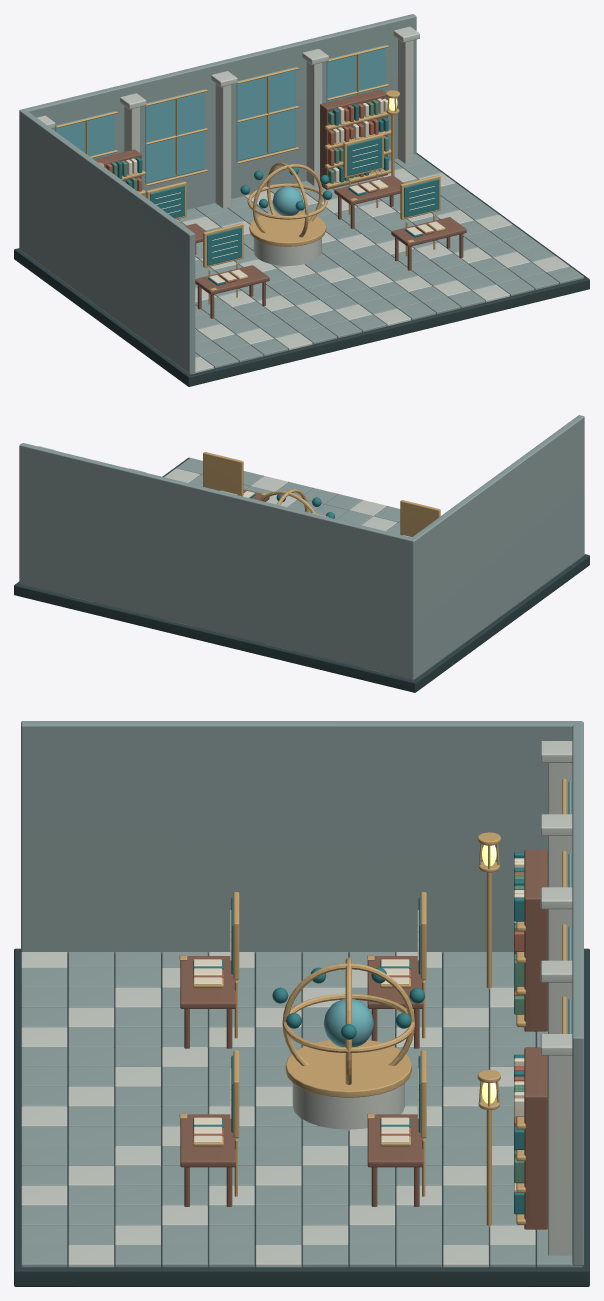
3 views of the same model, one above another, from view 1: azimuth 30°, elevation 25°; view 2: azimuth 150°, elevation 25°; view 3: azimuth 270°, elevation 25° (orthographic). The views are drawn at different scales.
Parts seen in each view (by area): view 1: Static_2_Salt limestone.001, Static_1_Carved pale stone.001, Static_3_Sea glass.001, Static_4_Aged brass.002, Static_0_Ink iron.001, Static_7_Walnut.001, Static_6_Enamel teal.002, Static_8_Archive paper.001, Static_9_Oxide leather.002, Static_10_Botanical green.001; view 2: Static_2_Salt limestone.001, Static_0_Ink iron.001, Static_4_Aged brass.002, Static_1_Carved pale stone.001; view 3: Static_2_Salt limestone.001, Static_1_Carved pale stone.001, Static_0_Ink iron.001, Static_7_Walnut.001, Static_4_Aged brass.002, Static_6_Enamel teal.002, Static_8_Archive paper.001, Static_3_Sea glass.001, Static_10_Botanical green.001, Static_9_Oxide leather.002.
Boxes of the visible parts, x1=… form: Static_2_Salt limestone.001: x1=19, y1=14, x2=583, y2=373; Static_1_Carved pale stone.001: x1=37, y1=26, x2=569, y2=374; Static_3_Sea glass.001: x1=55, y1=45, x2=385, y2=215; Static_4_Aged brass.002: x1=55, y1=45, x2=445, y2=304; Static_0_Ink iron.001: x1=14, y1=153, x2=589, y2=386; Static_7_Walnut.001: x1=94, y1=89, x2=466, y2=318; Static_6_Enamel teal.002: x1=116, y1=103, x2=439, y2=285; Static_8_Archive paper.001: x1=125, y1=98, x2=444, y2=283; Static_9_Oxide leather.002: x1=106, y1=103, x2=434, y2=282; Static_10_Botanical green.001: x1=104, y1=100, x2=388, y2=190; Static_2_Salt limestone.001: x1=19, y1=415, x2=584, y2=680; Static_0_Ink iron.001: x1=14, y1=457, x2=589, y2=692; Static_4_Aged brass.002: x1=203, y1=452, x2=440, y2=536; Static_1_Carved pale stone.001: x1=38, y1=446, x2=580, y2=674; Static_2_Salt limestone.001: x1=21, y1=721, x2=583, y2=1267; Static_1_Carved pale stone.001: x1=21, y1=741, x2=572, y2=1267; Static_0_Ink iron.001: x1=14, y1=948, x2=589, y2=1286; Static_7_Walnut.001: x1=180, y1=849, x2=547, y2=1231; Static_4_Aged brass.002: x1=179, y1=778, x2=566, y2=1227; Static_6_Enamel teal.002: x1=193, y1=852, x2=524, y2=1214; Static_8_Archive paper.001: x1=193, y1=858, x2=524, y2=1192; Static_3_Sea glass.001: x1=323, y1=781, x2=571, y2=1047; Static_10_Botanical green.001: x1=514, y1=872, x2=524, y2=1183; Static_9_Oxide leather.002: x1=193, y1=872, x2=524, y2=1151.
Size of the model in its own units: 16.3 by 5.82 by 12.3.
